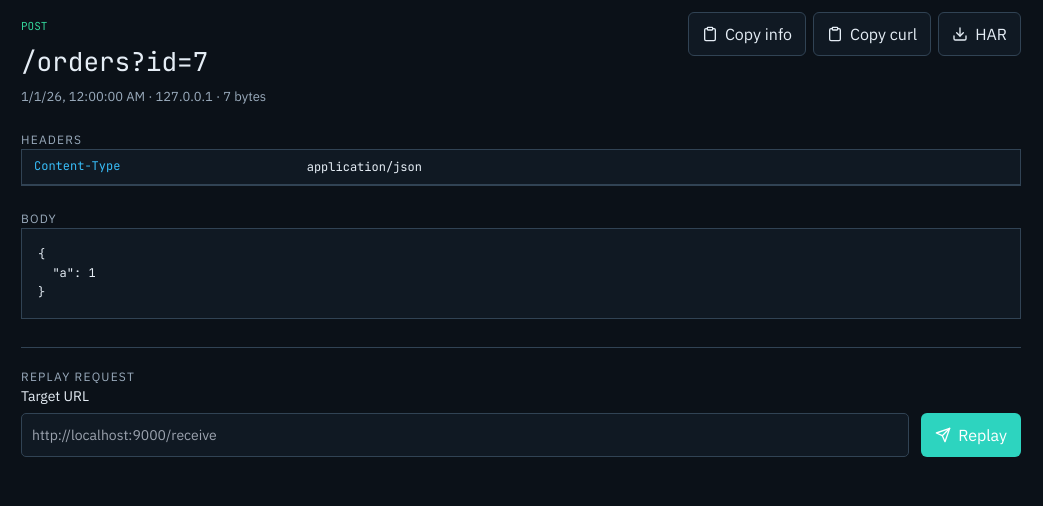
Test case: critical flows › shows replay feedback
Type "http://localhost:9000/hook" into the field labelled "Target URL". click: [465, 435]
box: left=21, top=413, right=909, bottom=457
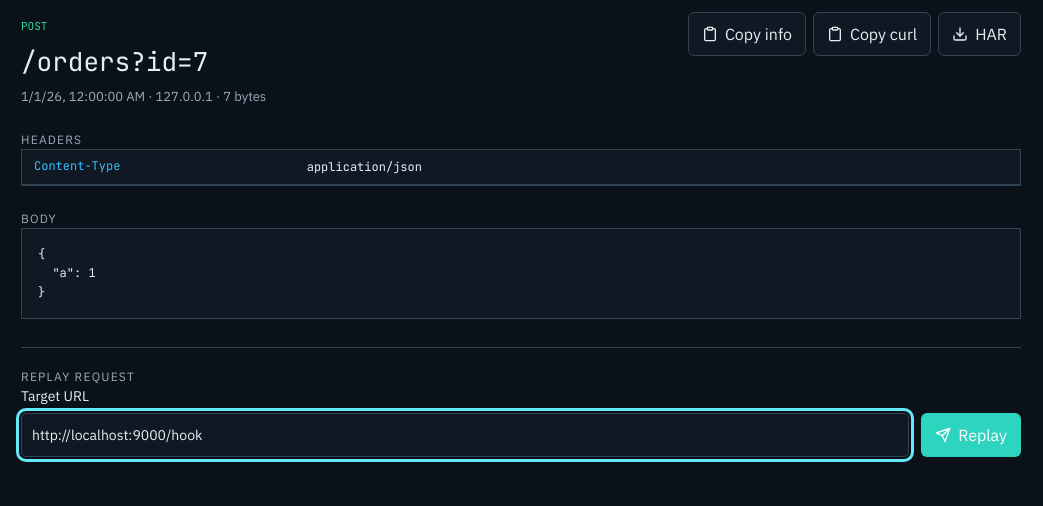
Click the button "Replay". click: [971, 435]
box: left=921, top=413, right=1021, bottom=457
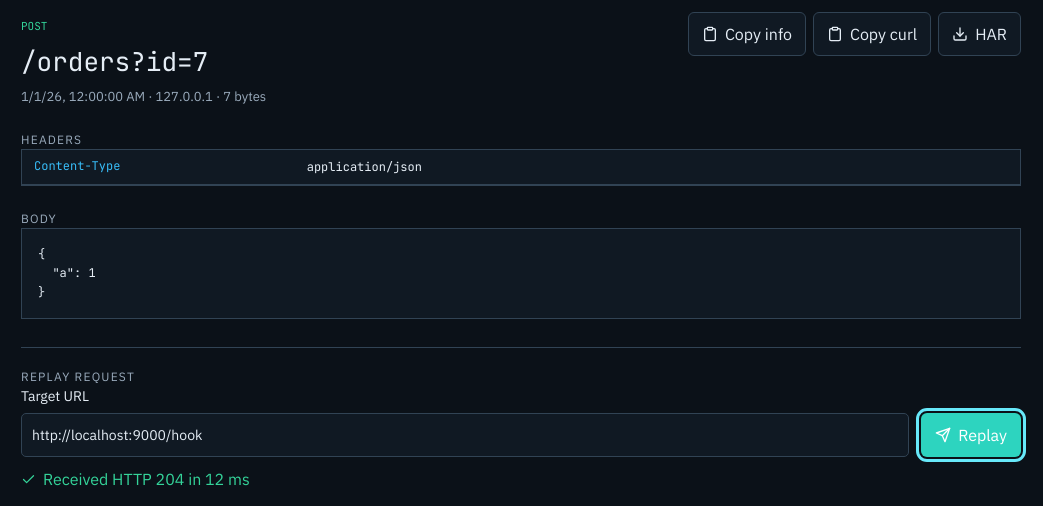
Now the text "Received HTTP 204 in 12 ms" is shown, box left=21, top=469, right=250, bottom=489
